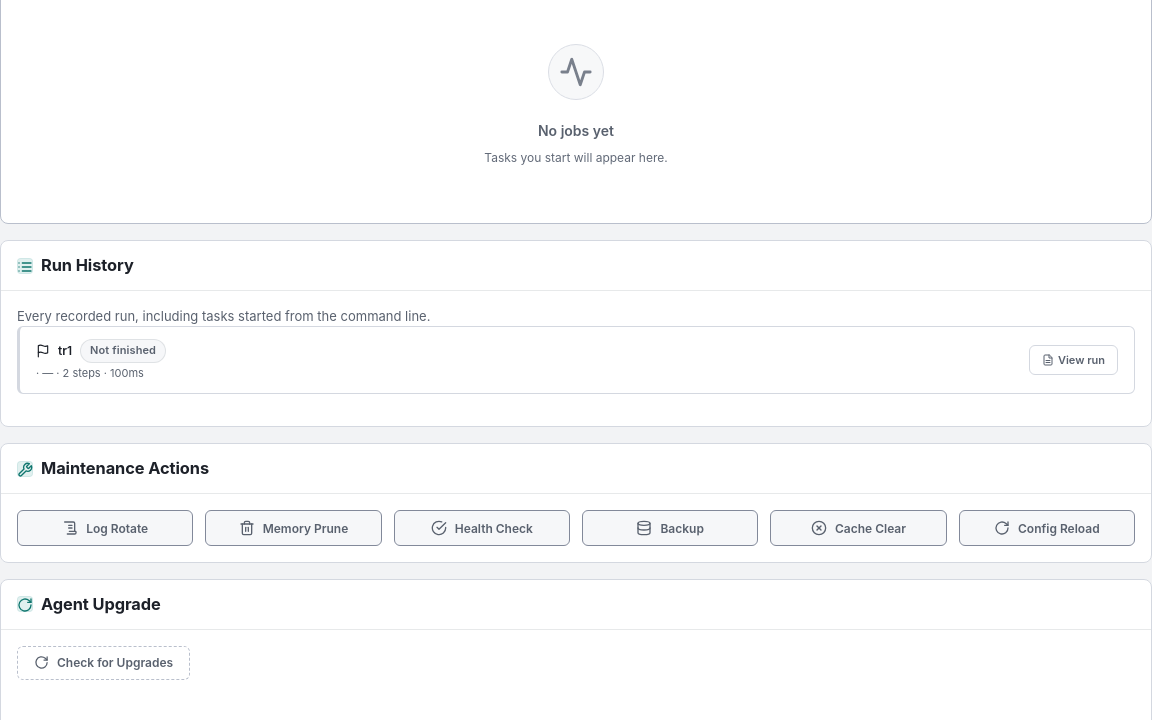
Test: ControlPanel.vue › creates a share link and renders it in the drawer
(page scrolled)
Note: 打开 run 抽屉
What coordinates should you click on to do the following:
click the button "View run"
I would click on:
 (1073, 360)
Its box is [1029,345,1118,375].
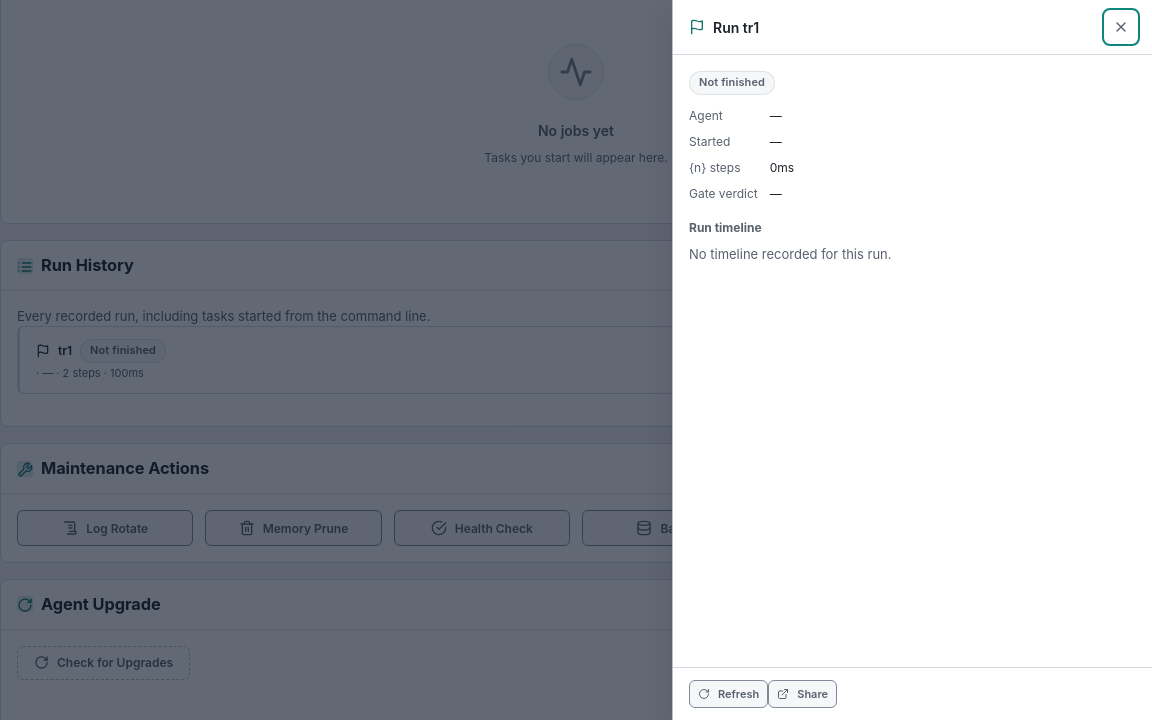
Expected: the button "Share" is shown
What coordinates should you click on to do the following:
click the button "Share"
I would click on:
 (803, 694)
Its box is [768,680,837,708].
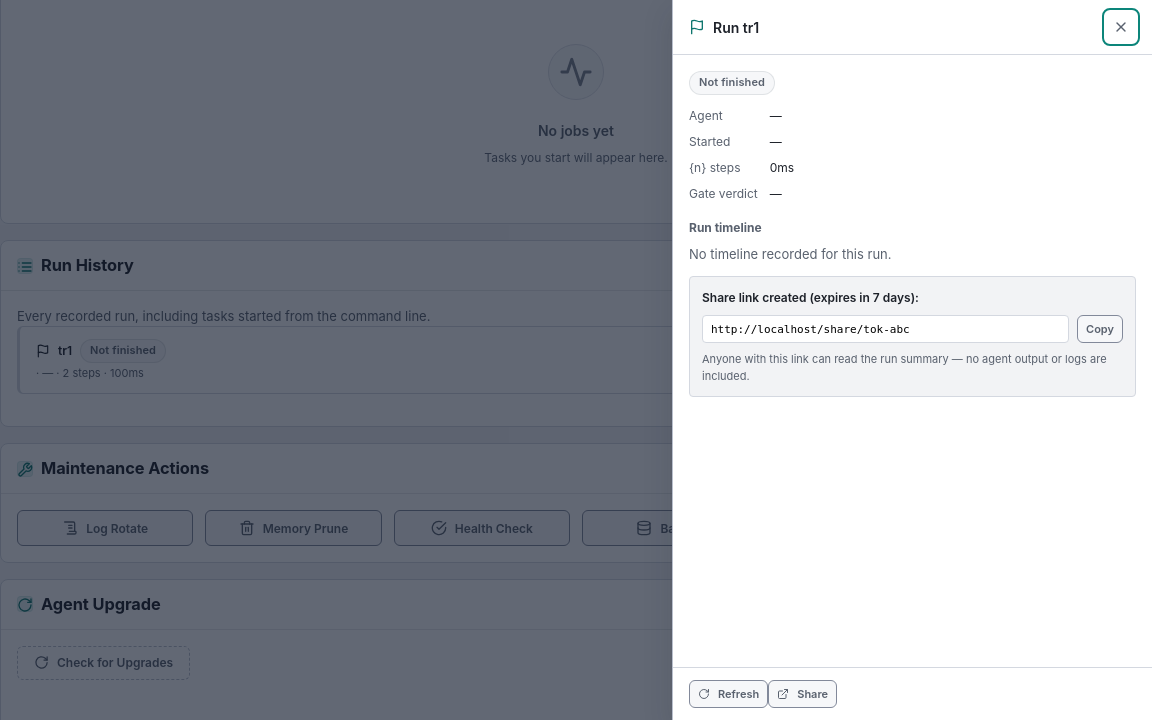
Expected: the field with class "run-share__input" is shown, [702,315,1069,343]
